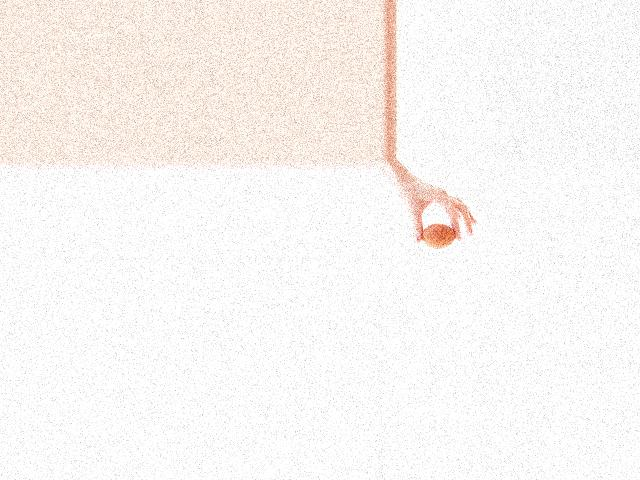egg: (421, 224, 455, 249)
